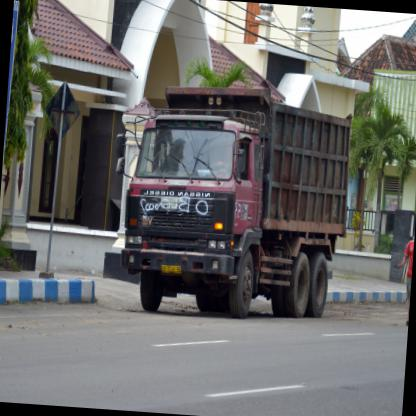truck: (117, 110, 272, 323)
